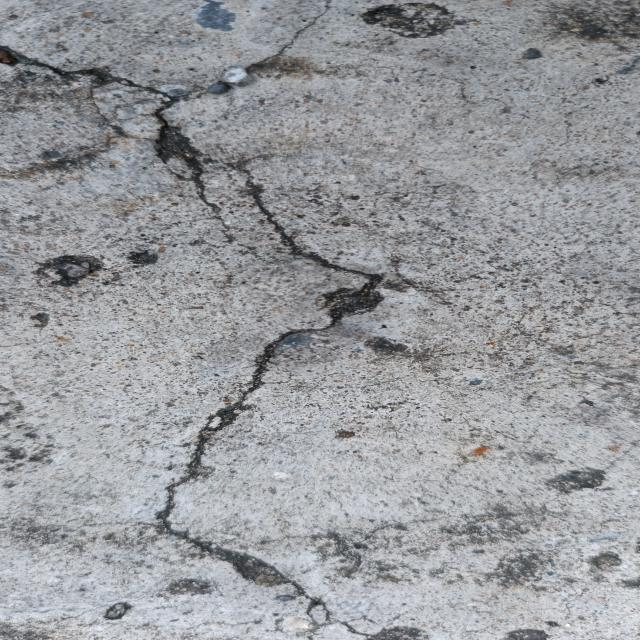branched cracks: (0, 0, 388, 615)
